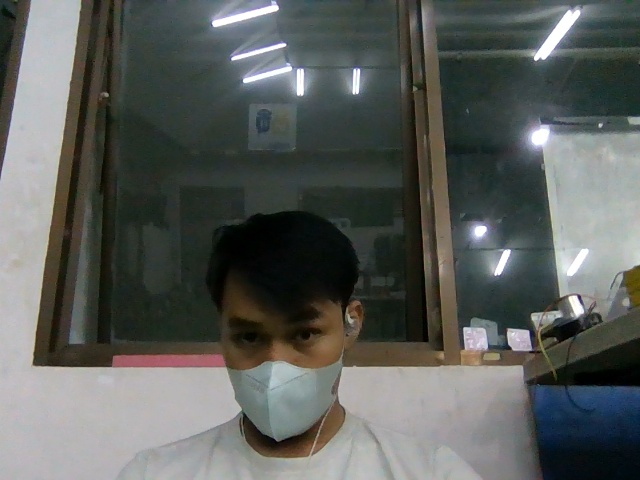mask_on: (224, 360, 341, 440)
